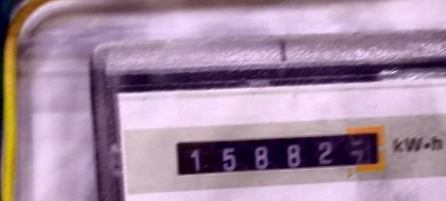1: (189, 142, 203, 172)
2: (316, 137, 334, 164)
5: (220, 143, 238, 173)
7: (349, 145, 363, 163)
8: (252, 141, 269, 170), (285, 139, 302, 168)
screen: (164, 115, 392, 186)
